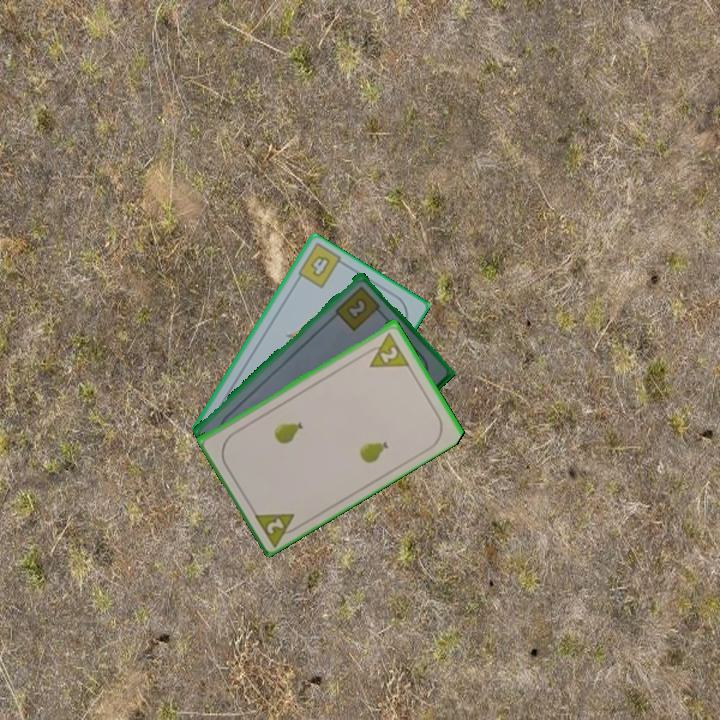2b: (331, 282, 385, 333)
2p: (250, 508, 305, 548), (360, 329, 412, 370)
4b: (307, 251, 333, 280)
